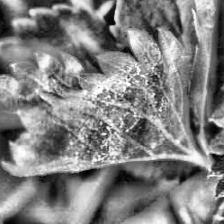Powdery Mildew Leaf: (0, 26, 203, 176)
